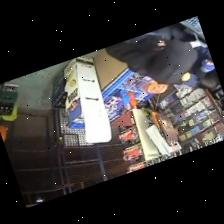person: (105, 24, 197, 83), (182, 46, 219, 88)
